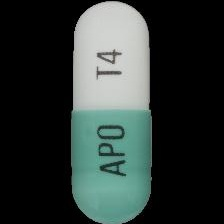60505-2649: (0, 0, 224, 224)
